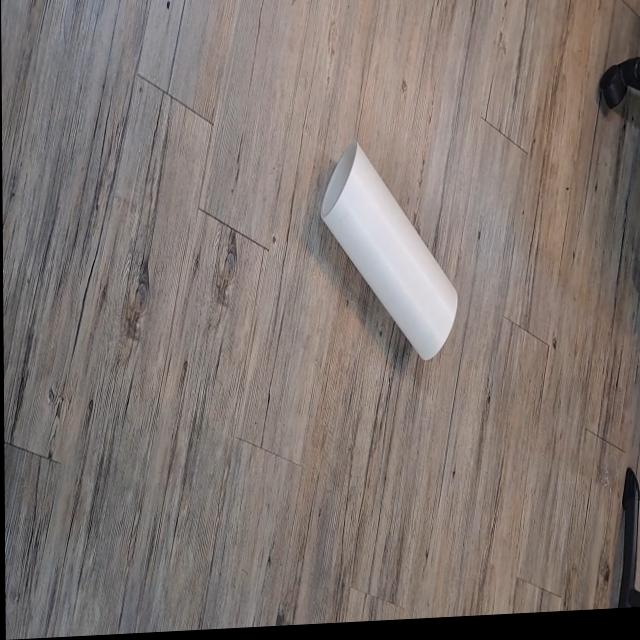CORAL: (306, 130, 474, 389)
